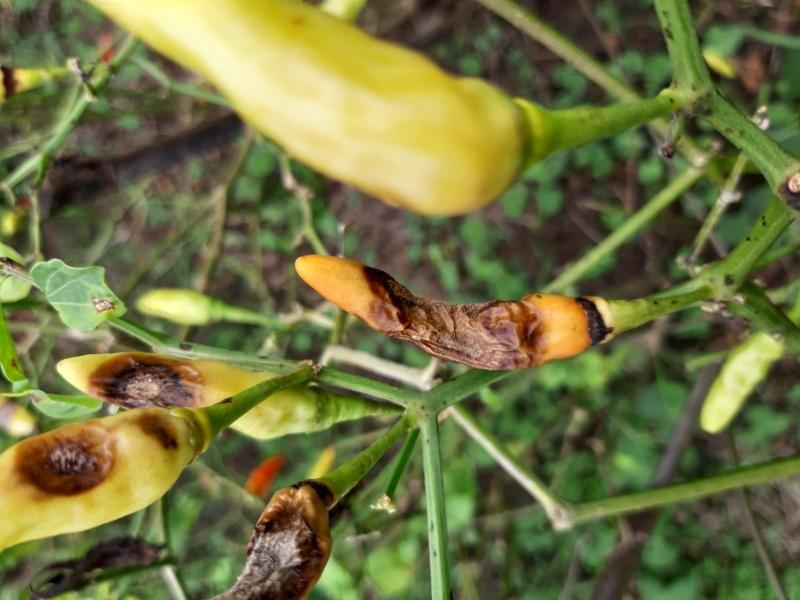antraknosa: (295, 250, 594, 371), (1, 407, 196, 546), (56, 347, 313, 437), (204, 486, 336, 600)
cabai_normal: (86, 1, 520, 222), (697, 331, 784, 436)
